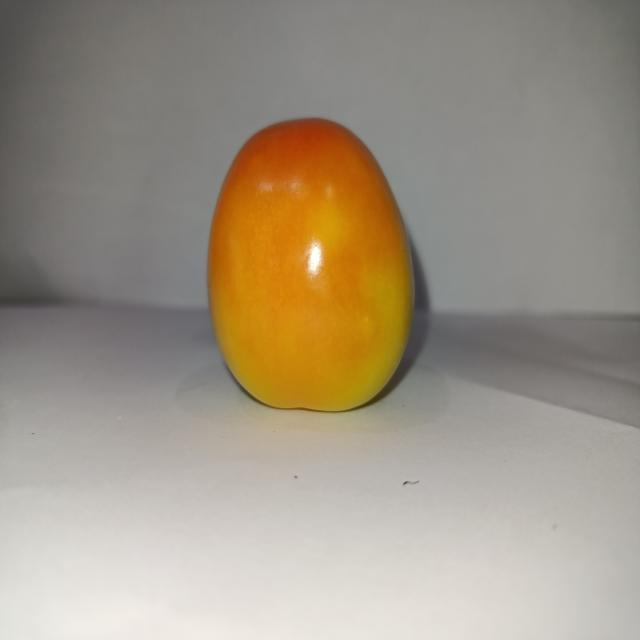Red: (205, 115, 416, 413)
